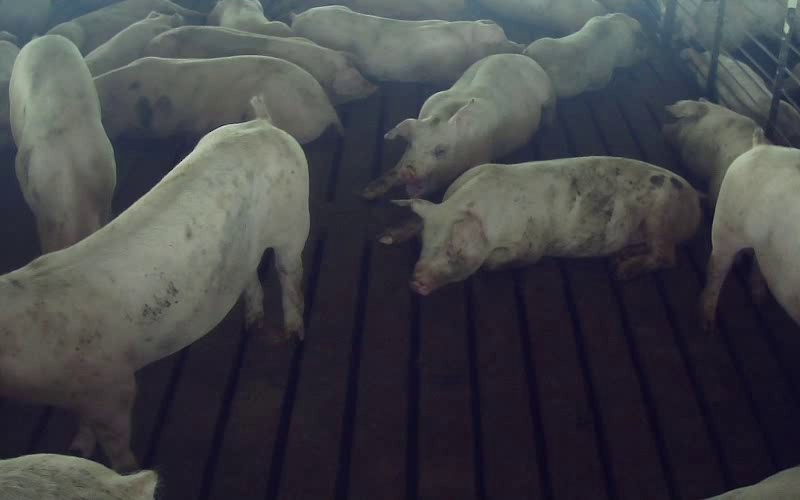pig: (0, 98, 307, 470), (410, 156, 699, 294), (363, 54, 555, 198), (9, 35, 115, 252), (94, 57, 339, 142), (704, 129, 799, 323), (291, 5, 522, 83), (523, 13, 646, 96), (662, 100, 757, 205)
